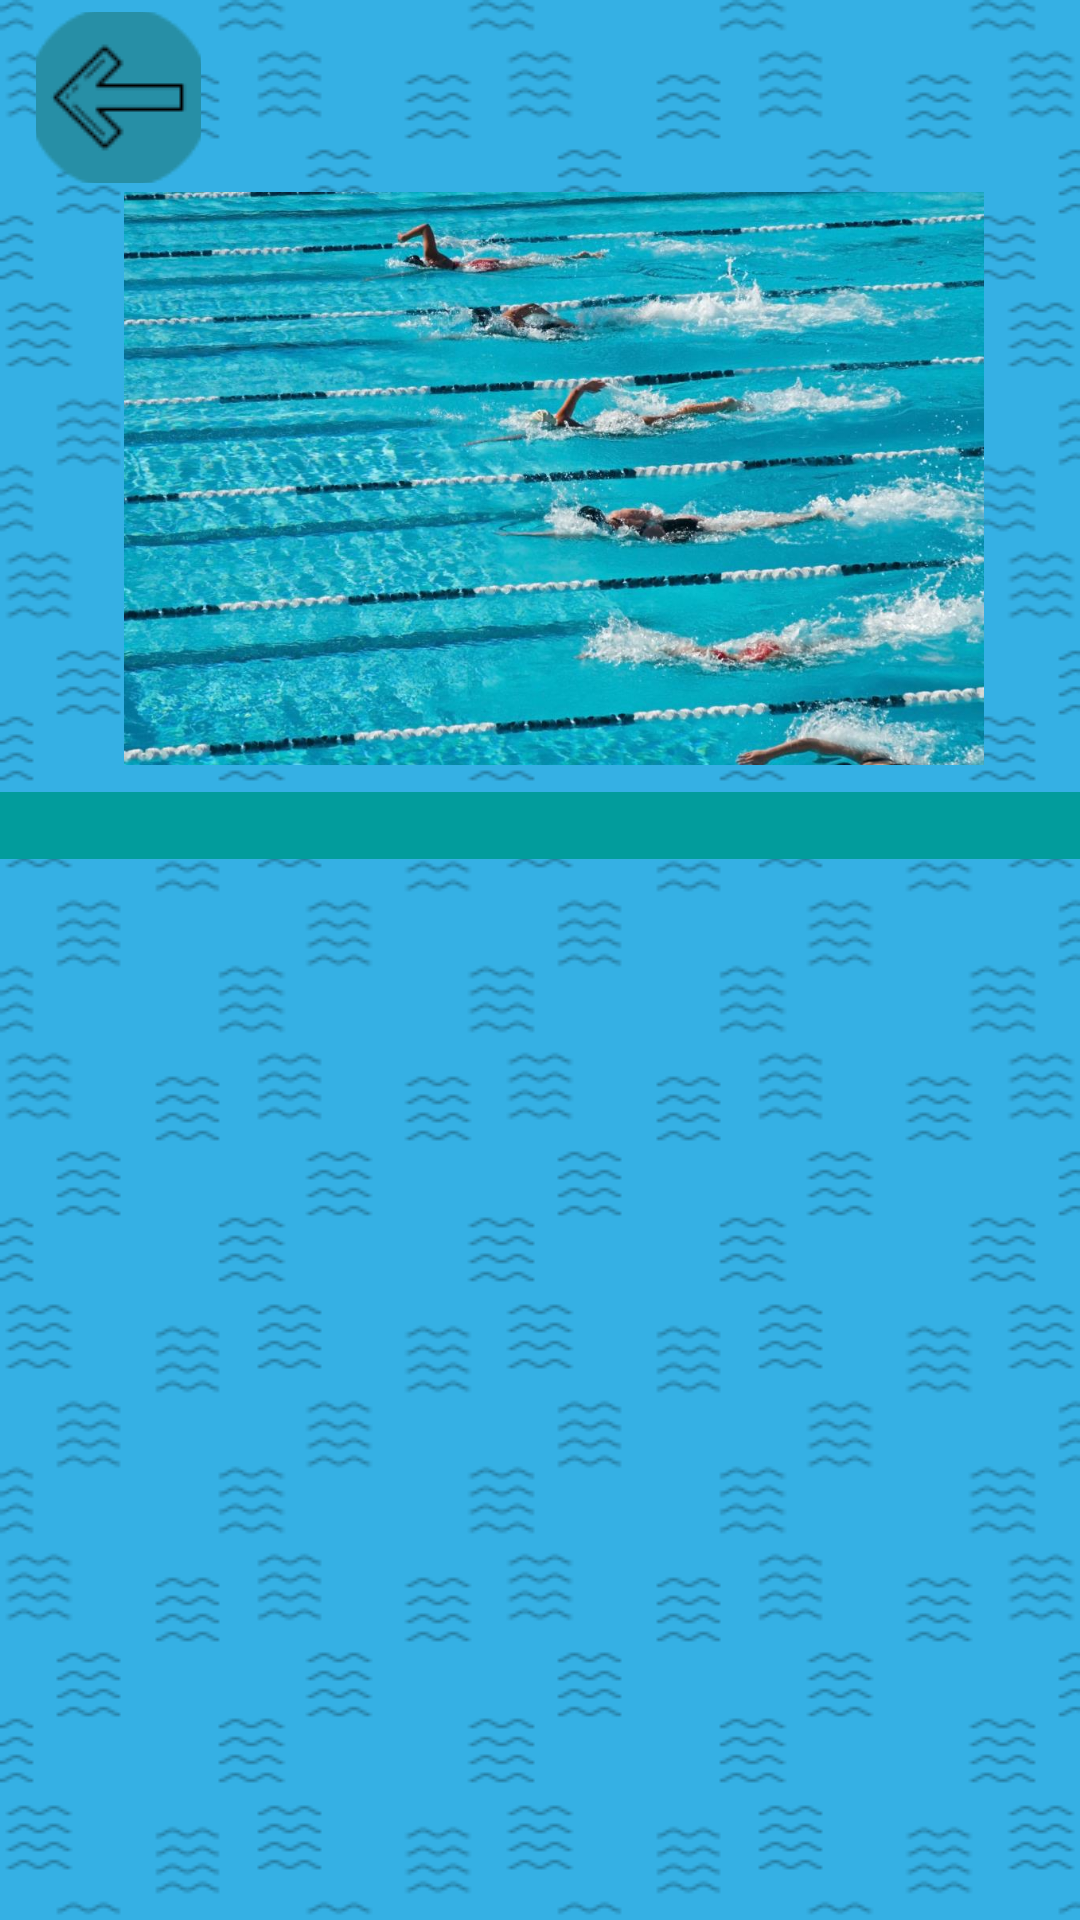

Icons on this 1080w x 1920h Android screen, each with the point to tap as (x=x, y=y):
strelka: (x=118, y=97)
